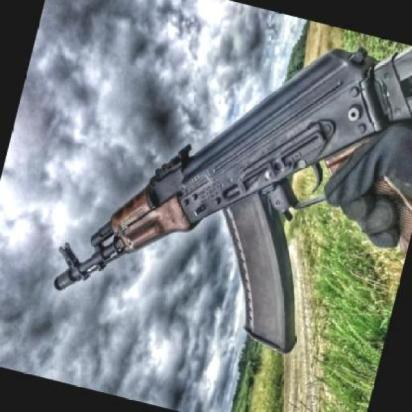Gun: (33, 0, 412, 392)
